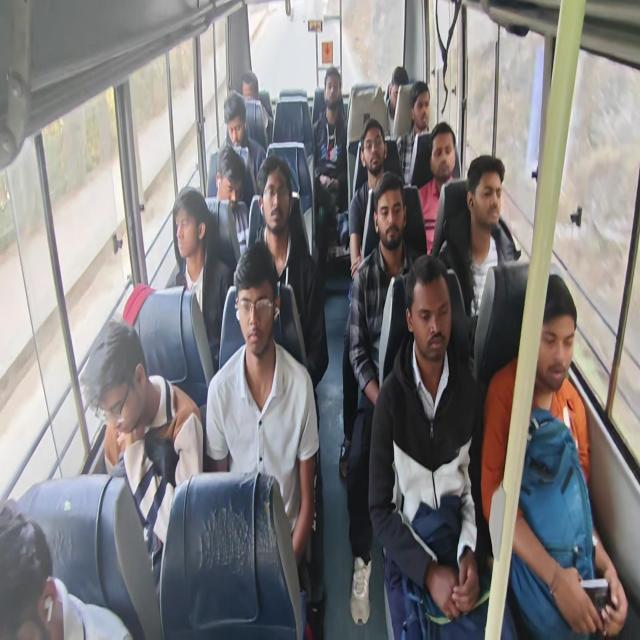person: (0, 506, 64, 640), (90, 333, 146, 432), (528, 288, 576, 390), (413, 283, 453, 365), (242, 269, 276, 350), (476, 159, 508, 238), (259, 172, 296, 235), (376, 183, 406, 253), (172, 199, 204, 258), (218, 156, 244, 209), (361, 122, 386, 174), (433, 130, 454, 184), (411, 93, 435, 134), (224, 105, 246, 144), (321, 71, 341, 107), (392, 72, 408, 111), (242, 81, 258, 103)
